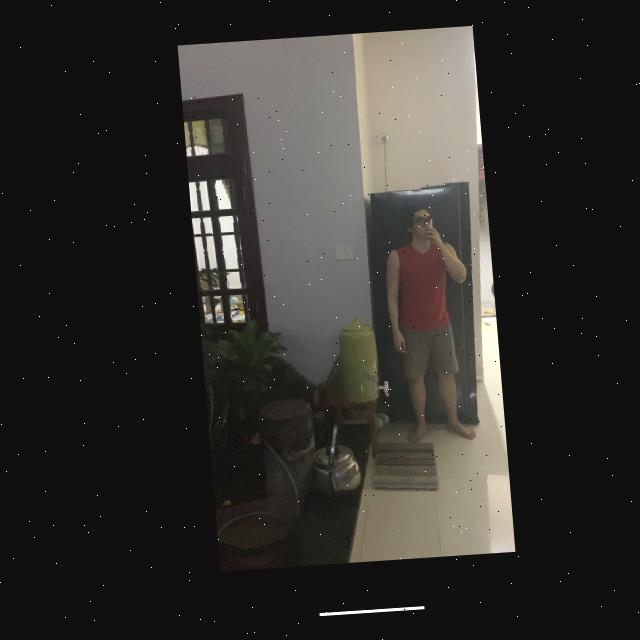cigarette: (424, 224, 429, 237)
